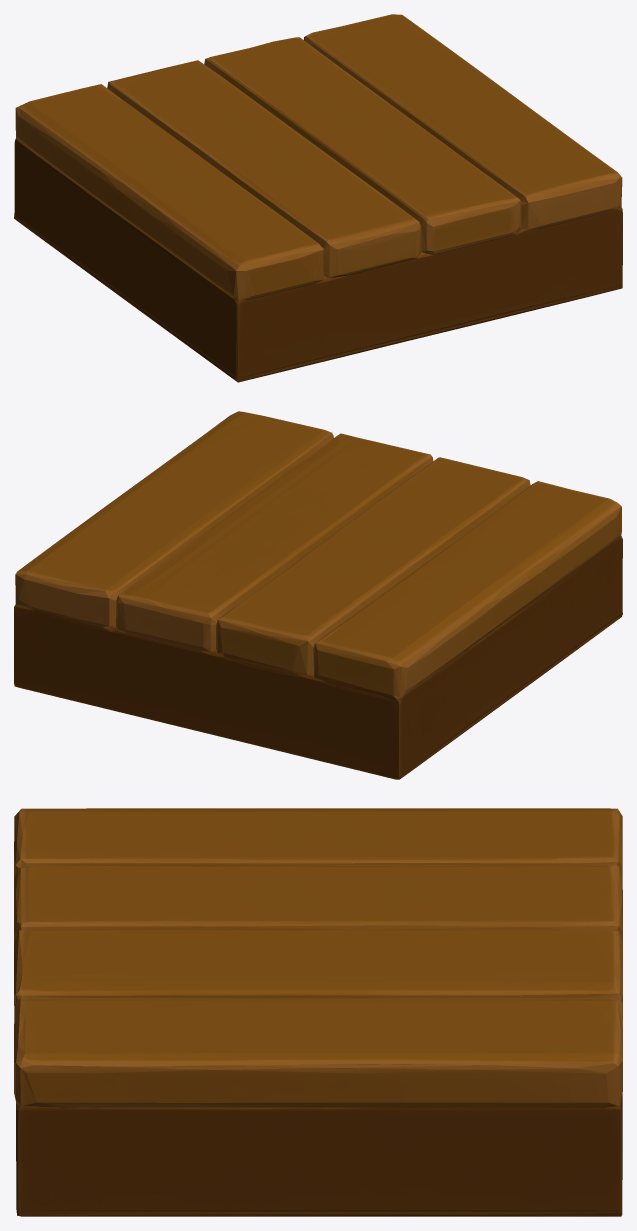
Rendered from wooden_planks_source.glb.
The picture shows the model from 3 angles, top to bottom: view 1: azimuth 30°, elevation 25°; view 2: azimuth 150°, elevation 25°; view 3: azimuth 270°, elevation 25°; orthographic projection. The views are drawn at different scales.
Visible parts, largest first — view 1: world; view 2: world; view 3: world.
Part boxes in pixels (box(x1,y1,x2,y2)): world: box(14, 14, 622, 382); world: box(14, 411, 622, 779); world: box(14, 808, 622, 1216).
Size of the model in its own units: 1 by 0.2917 by 0.9999.
Materials: 1 (1 with a texture image).
